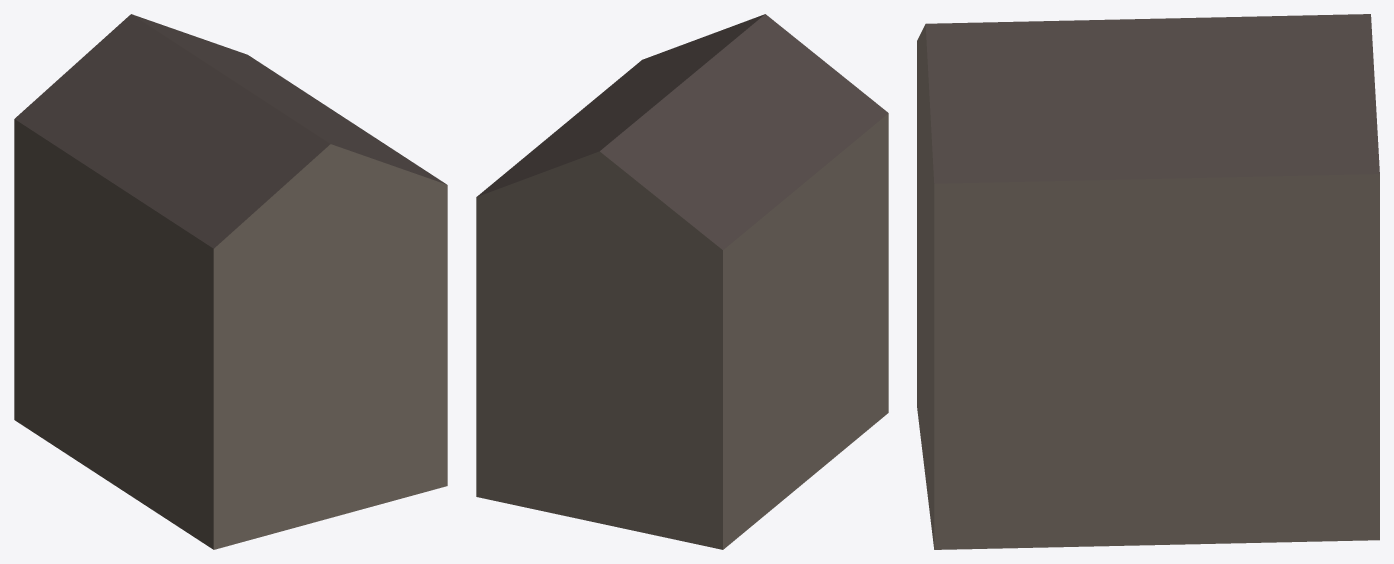
The picture shows the model from 3 angles, left to right: view 1: azimuth 30°, elevation 25°; view 2: azimuth 150°, elevation 25°; view 3: azimuth 270°, elevation 25°; orthographic projection. The views are drawn at different scales.
Parts seen in each view (by area): view 1: HP-w1424106425; view 2: HP-w1424106425; view 3: HP-w1424106425.
Boxes of the visible parts, bbox=[...] form: HP-w1424106425: bbox=[14, 14, 447, 549]; HP-w1424106425: bbox=[476, 14, 888, 549]; HP-w1424106425: bbox=[917, 14, 1379, 549].
Bounding box in the file's own units: 5.36 × 7.45 × 6.87.
